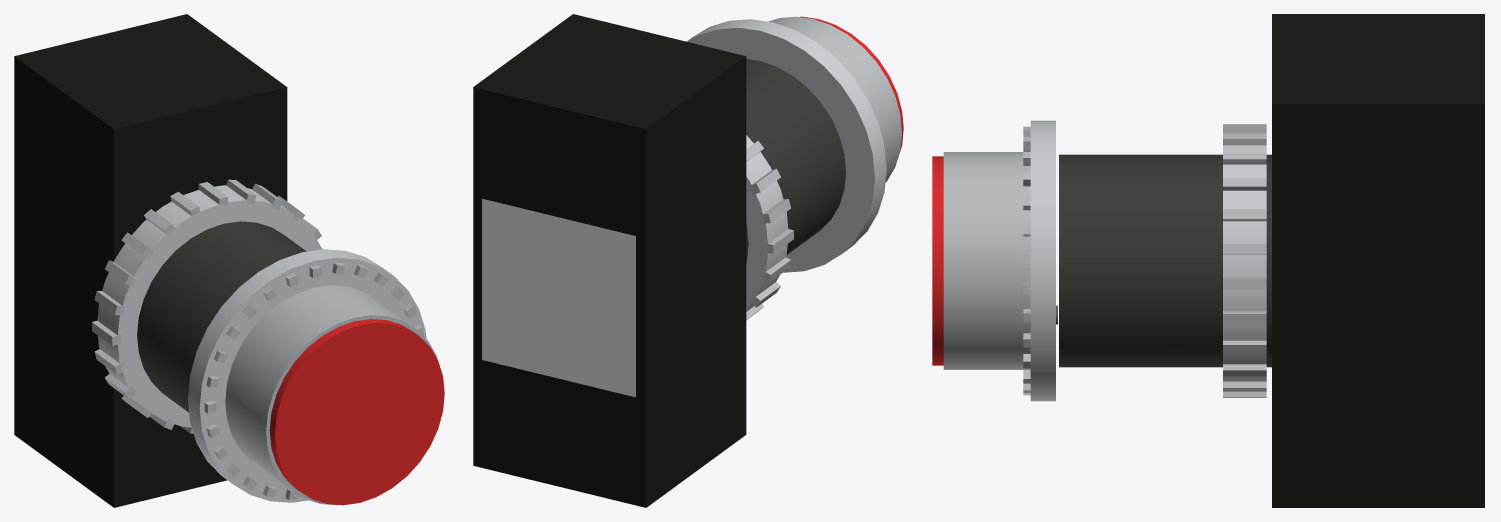
Rendered from pushButtonXb2Nc.glb.
The picture shows the model from 3 angles, left to right: view 1: azimuth 30°, elevation 25°; view 2: azimuth 150°, elevation 25°; view 3: azimuth 270°, elevation 25°; orthographic projection. The views are drawn at different scales.
Visible parts, largest first — view 1: industrial_xb2_contact, industrial_xb2_cap_face, industrial_xb2_body, industrial_xb2_bezel, industrial_xb2_cap, industrial_xb2_locknut; view 2: industrial_xb2_contact, industrial_xb2_etch_back, industrial_xb2_bezel, industrial_xb2_body, industrial_xb2_cap, industrial_xb2_locknut, industrial_xb2_cap_face; view 3: industrial_xb2_contact, industrial_xb2_body, industrial_xb2_cap, industrial_xb2_bezel, industrial_xb2_locknut, industrial_xb2_cap_face, industrial_xb2_locknut_knurl_23.
Boxes of the visible parts, <box> form: industrial_xb2_contact: <box>14,14,287,507</box>; industrial_xb2_cap_face: <box>269,319,444,505</box>; industrial_xb2_body: <box>137,221,306,412</box>; industrial_xb2_bezel: <box>188,249,426,502</box>; industrial_xb2_cap: <box>225,285,437,505</box>; industrial_xb2_locknut: <box>97,185,321,427</box>; industrial_xb2_contact: <box>473,14,746,507</box>; industrial_xb2_etch_back: <box>482,198,635,397</box>; industrial_xb2_bezel: <box>687,19,886,272</box>; industrial_xb2_body: <box>746,59,845,262</box>; industrial_xb2_cap: <box>768,16,901,182</box>; industrial_xb2_locknut: <box>746,135,788,311</box>; industrial_xb2_cap_face: <box>800,16,903,150</box>; industrial_xb2_contact: <box>1272,14,1484,507</box>; industrial_xb2_body: <box>1059,154,1271,367</box>; industrial_xb2_cap: <box>943,152,1030,369</box>; industrial_xb2_bezel: <box>1030,120,1055,401</box>; industrial_xb2_locknut: <box>1223,133,1266,381</box>; industrial_xb2_cap_face: <box>932,156,943,365</box>; industrial_xb2_locknut_knurl_23: <box>1223,340,1266,353</box>.
Bounding box in the file's own units: 0.029 × 0.0463 × 0.0572.
